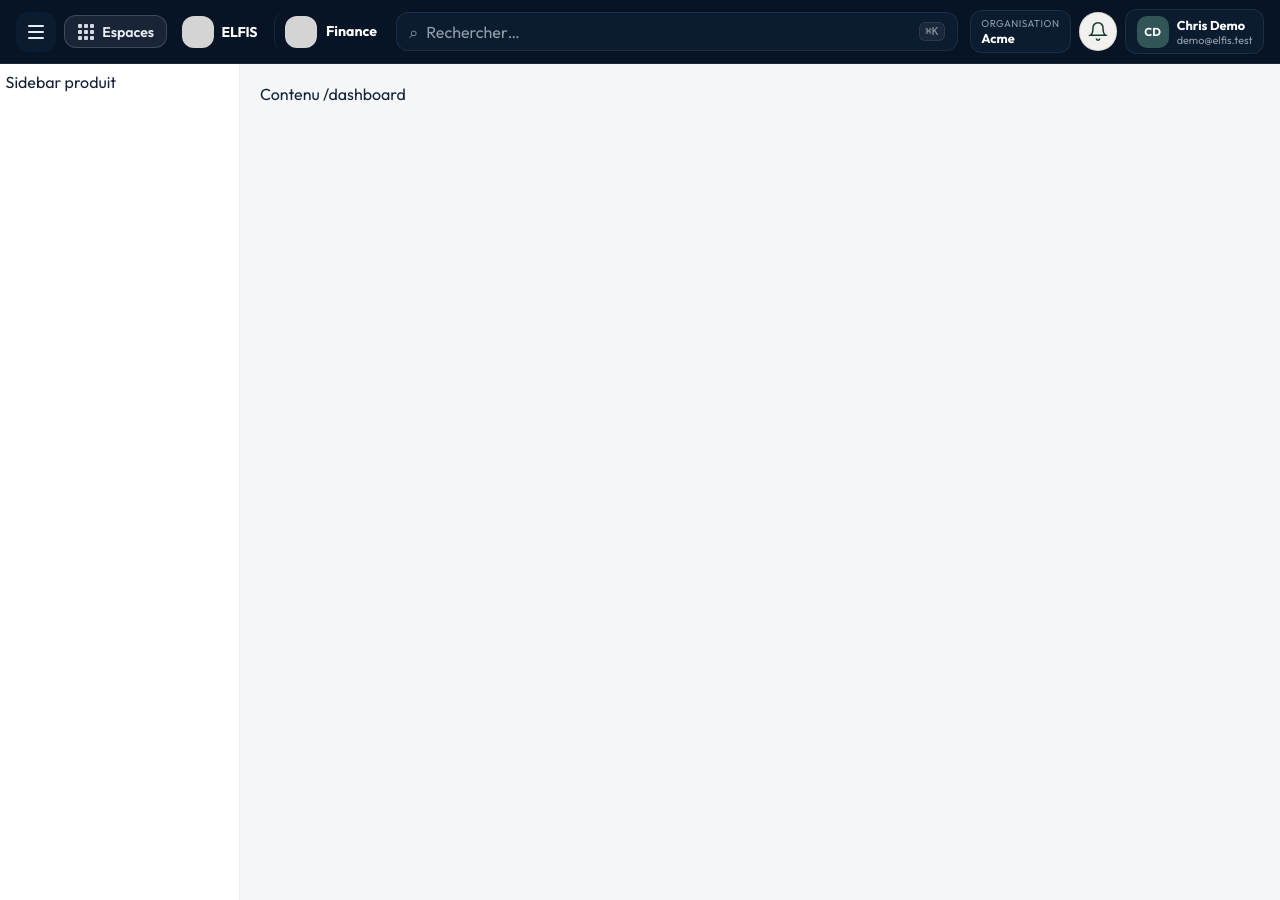
Test: UI.P2 redundant menu button MB01–MB20 › MB07 — menu global ferme (Escape)
Click the button named "ouvrir le menu elfis" at (36, 32), box 16,12 -> 56,52
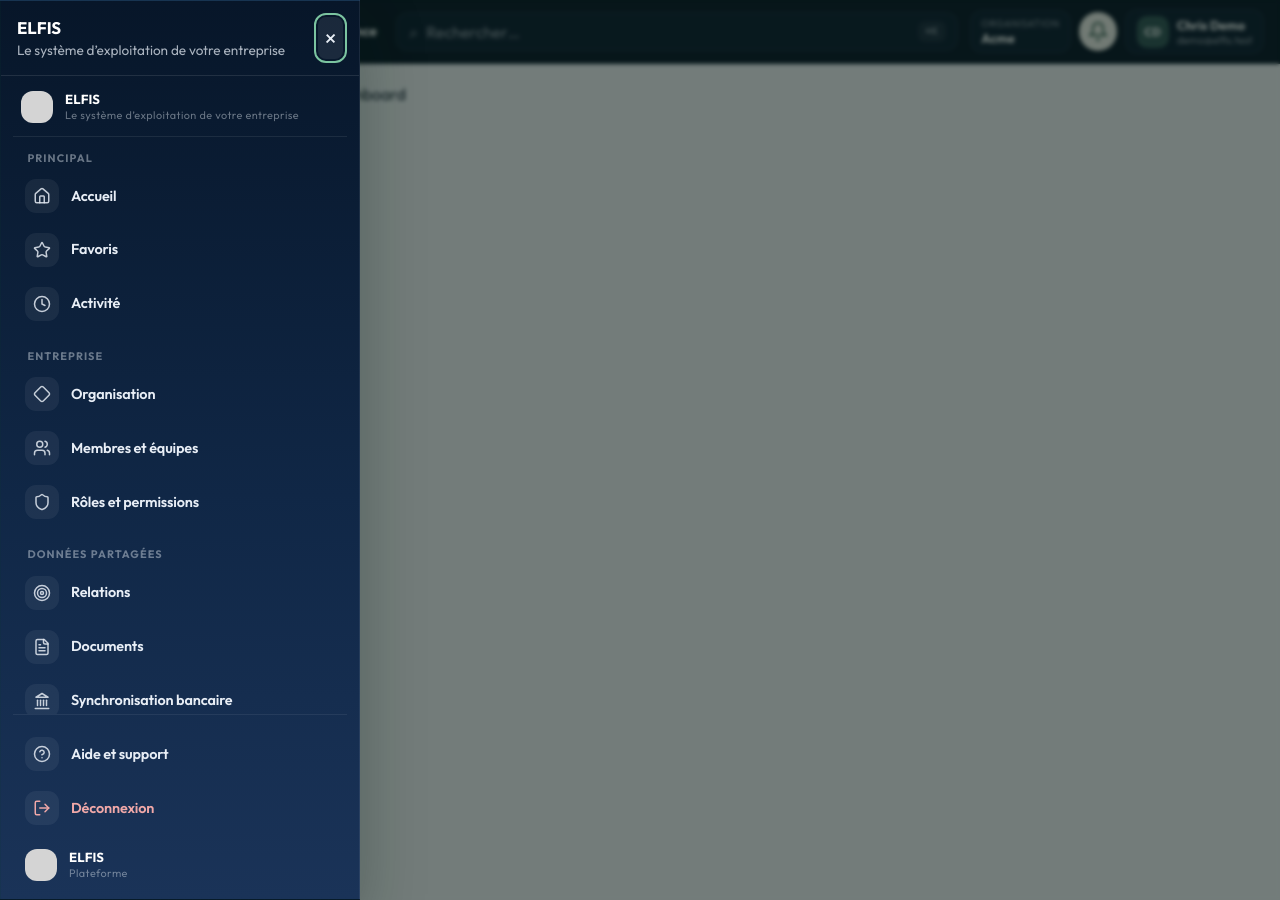
Press Escape
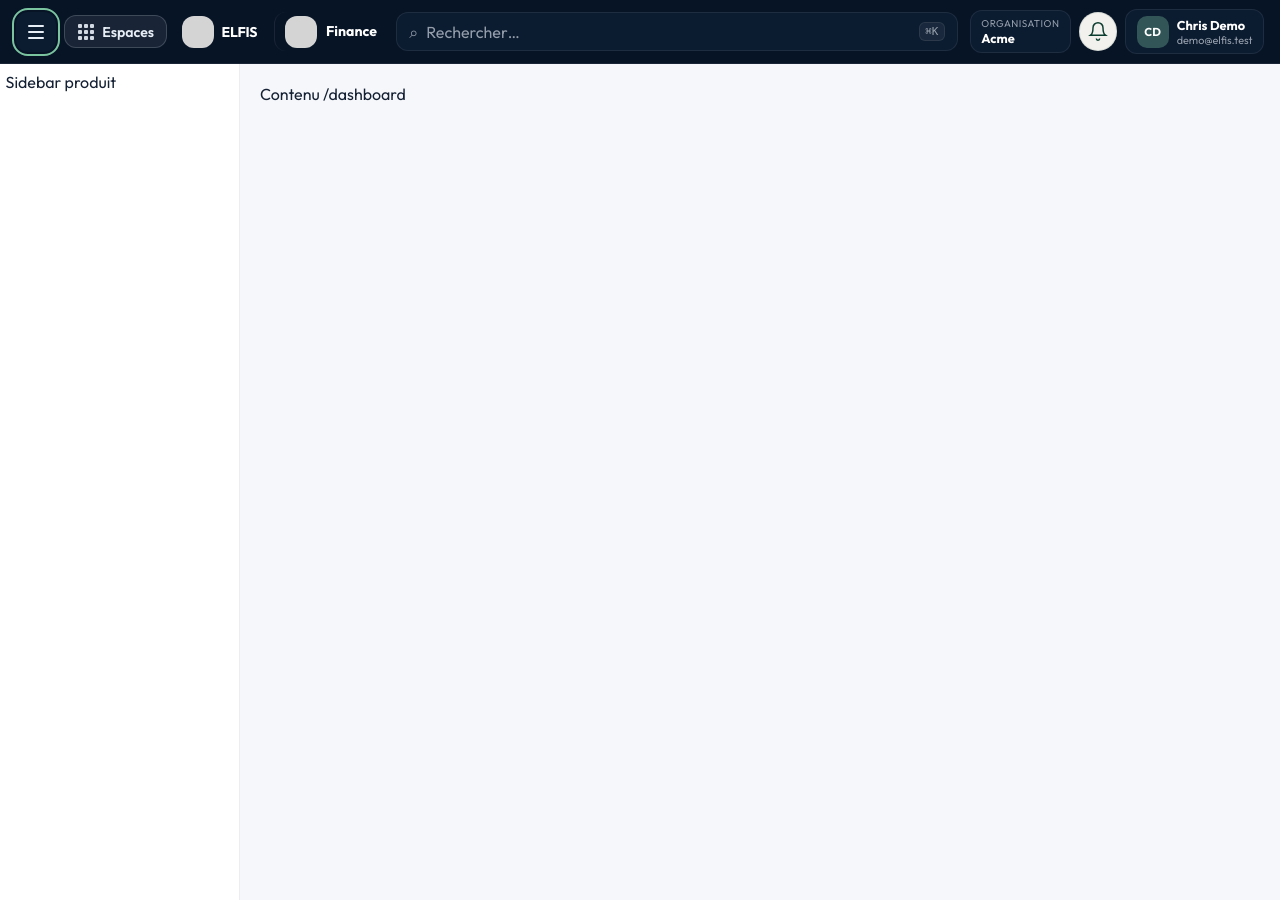
Now the button named "ouvrir le menu elfis" is collapsed, box 16,12 -> 56,52
